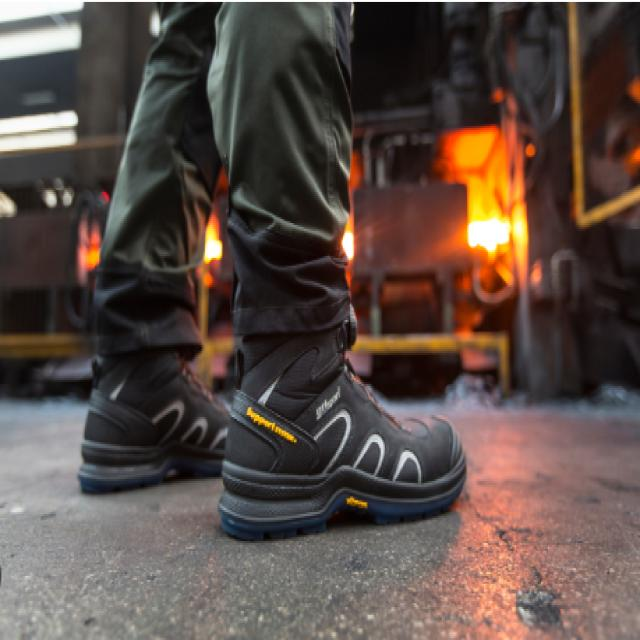boots: (79, 292, 470, 544)
